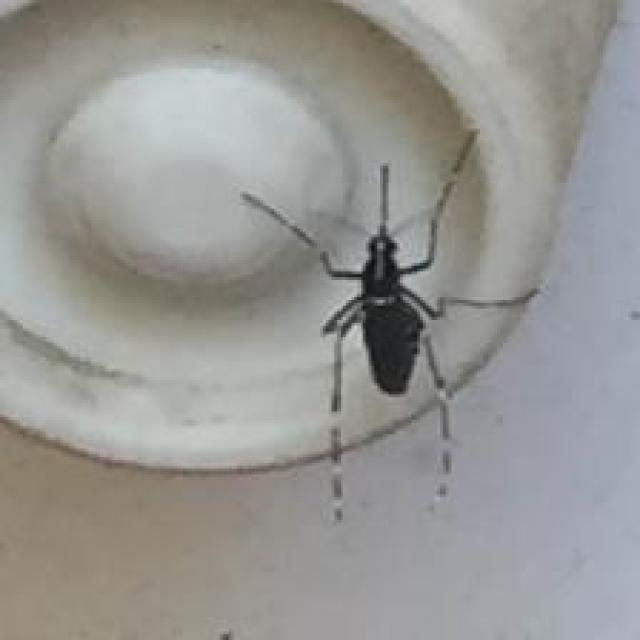Aedes albopictus: (238, 127, 538, 522)
